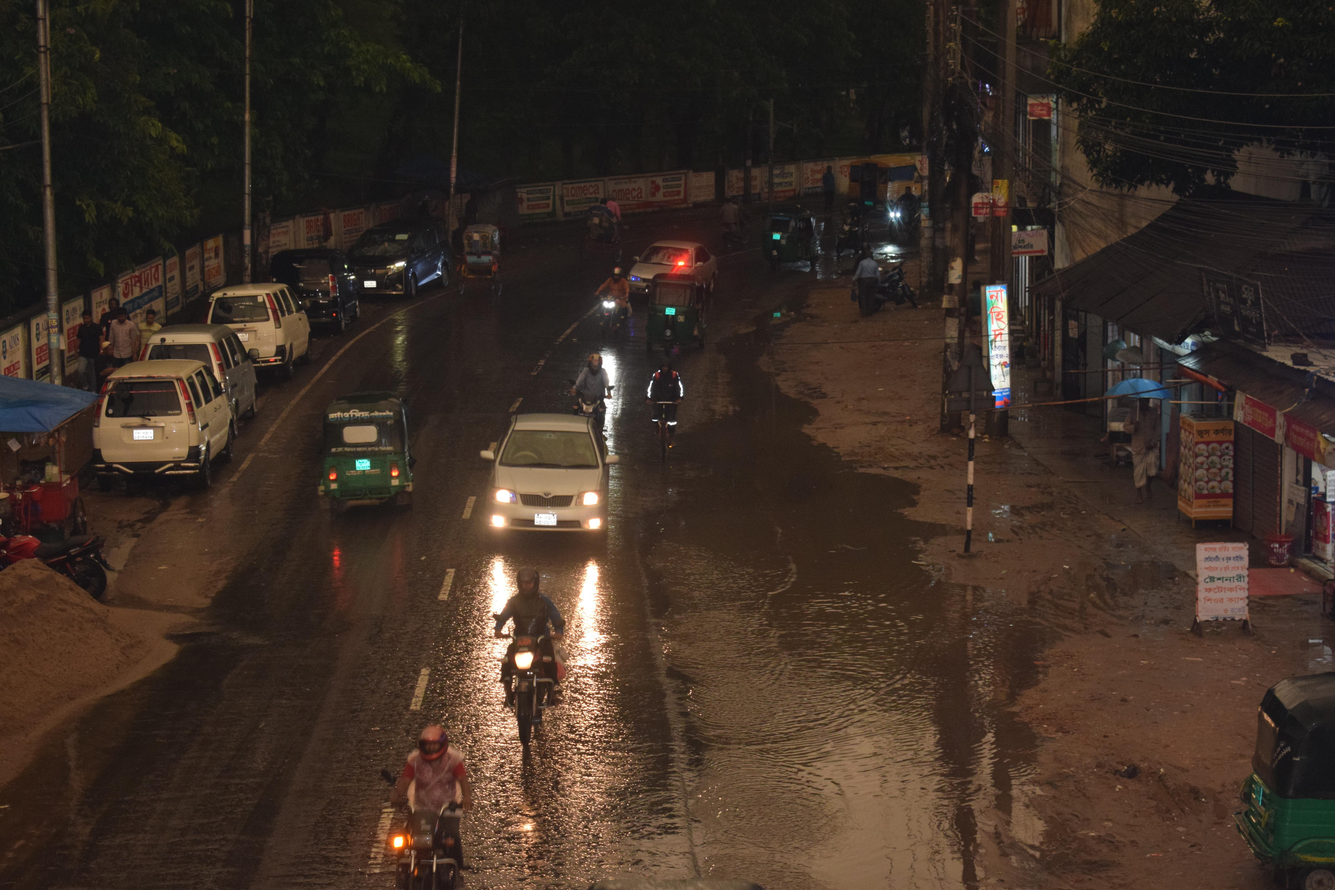Bike: (457, 541, 620, 773), (332, 698, 528, 890), (626, 339, 720, 477), (551, 334, 648, 467), (574, 250, 654, 359)
Car: (78, 344, 264, 503), (132, 309, 289, 433), (186, 261, 328, 386), (259, 232, 385, 344), (317, 207, 455, 307), (615, 228, 736, 313), (438, 206, 519, 317)
